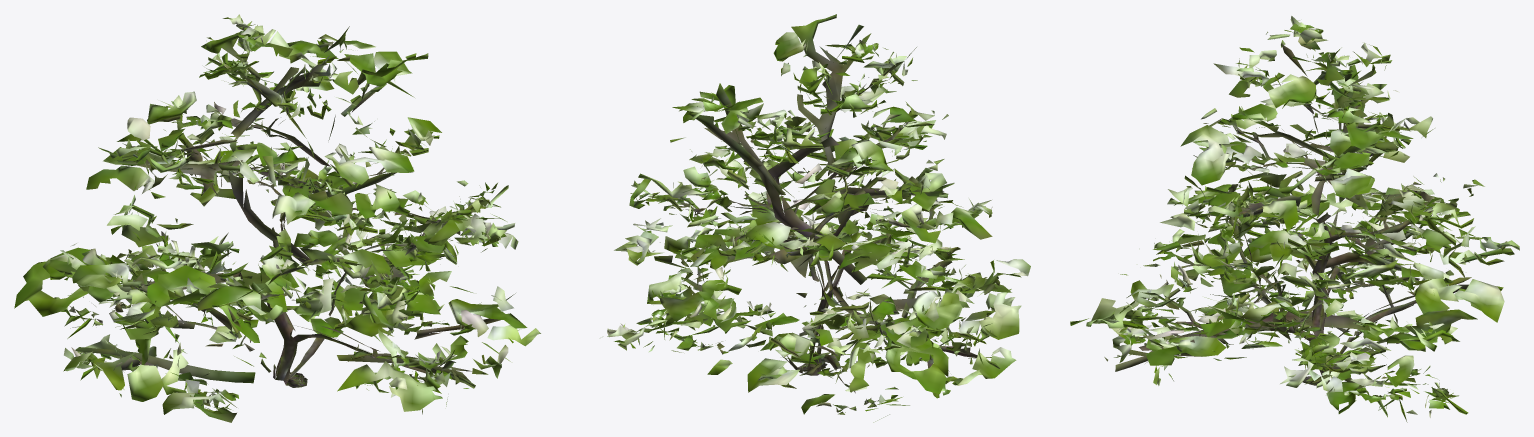
The model's file is tree_06_white_blossom.glb.
3 views of the same model, side by side, from view 1: azimuth 30°, elevation 25°; view 2: azimuth 150°, elevation 25°; view 3: azimuth 270°, elevation 25° (orthographic). The views are drawn at different scales.
Parts seen in each view (by area): view 1: geometry_0; view 2: geometry_0; view 3: geometry_0.
Part boxes in pixels (x1,y1,x2,y2): geometry_0: [14, 14, 540, 422]; geometry_0: [607, 14, 1030, 422]; geometry_0: [1070, 16, 1519, 422].
Size of the model in its own units: 1.26 by 1 by 1.21.
1 material, 1 textured.
